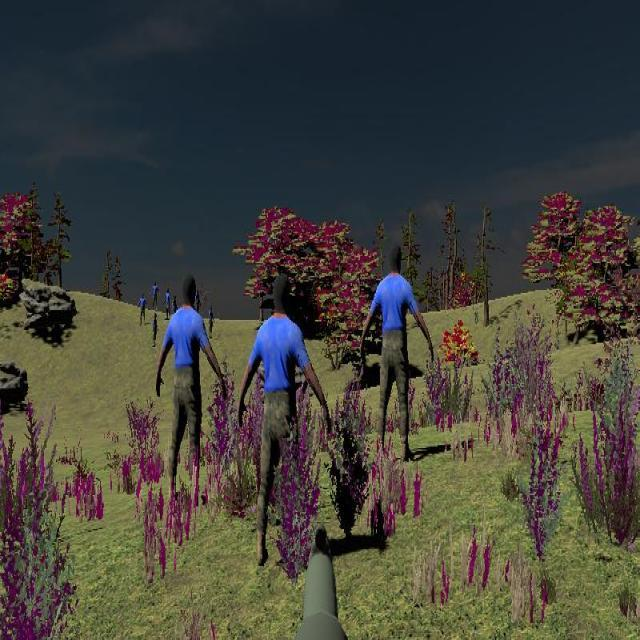Human: (237, 268, 333, 561), (361, 237, 434, 465), (156, 272, 226, 500)
